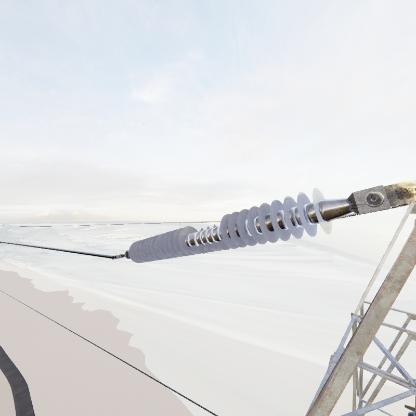insulator: (126, 186, 335, 267)
